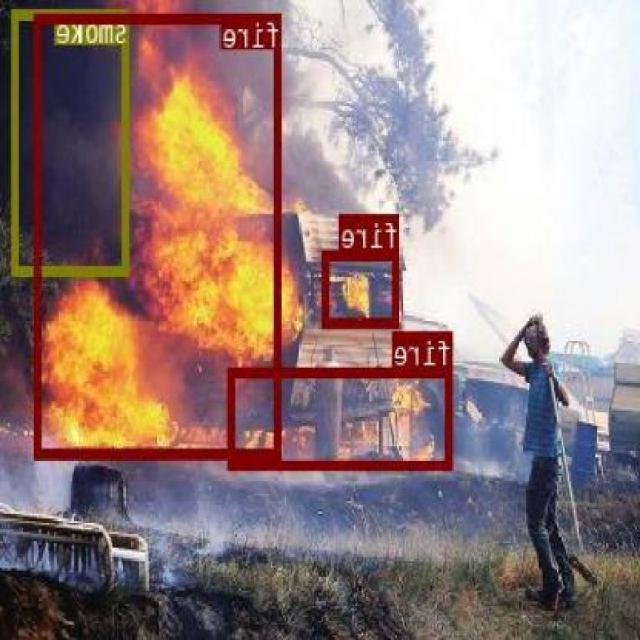Fire: (37, 12, 283, 457), (231, 366, 454, 468), (324, 250, 401, 326)
Smoke: (13, 8, 132, 274)
